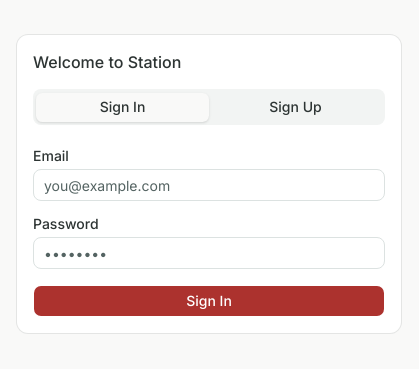
Test: AuthPage › Sign In form › shows error when email is empty
The image size is (419, 369).
Click the button "Sign In" at [209, 301], box 33,285 -> 385,317
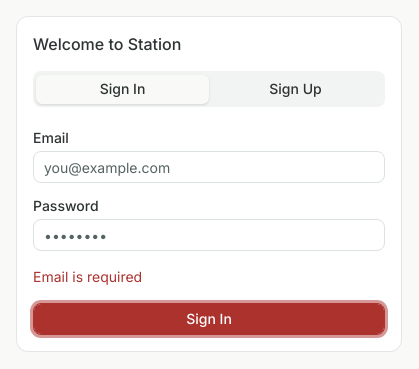
Expected: the message reads "Email is required", 33,268 -> 142,285
